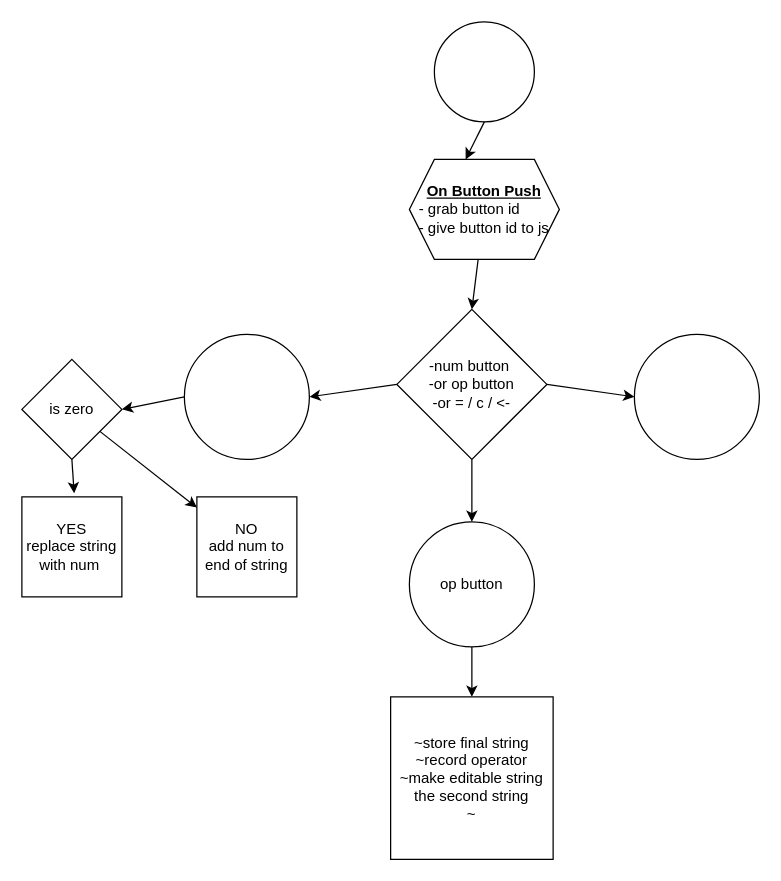
This 781x881 diagram has some shape labels left out. The shapes that lost their labels are listed below. From the top down, each one's centre as x and y in pixels, then its label:
At (483,71): "Start -".
At (246,396): "Num button".
At (696,396): "function button".
